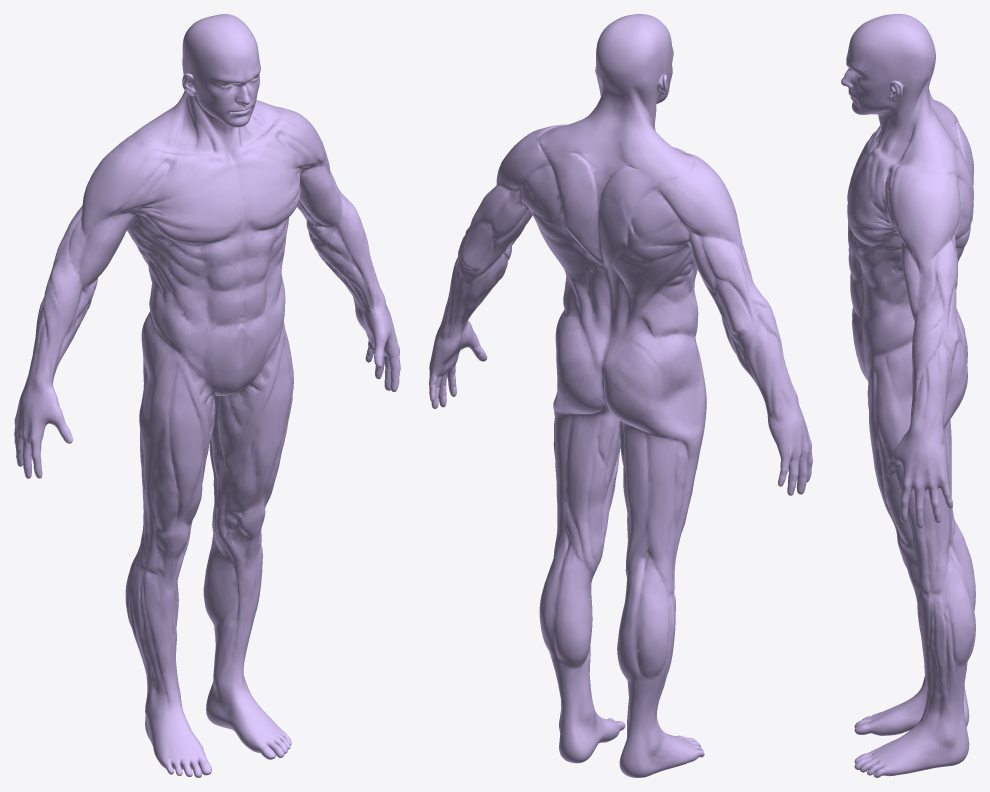
Rendered from anatomy-model.glb.
3 renders of one model, left to right at view 1: azimuth 30°, elevation 25°; view 2: azimuth 150°, elevation 25°; view 3: azimuth 270°, elevation 25°, orthographic.
Parts seen in each view (by area): view 1: Layer0_007_Layer0_0070_0; view 2: Layer0_007_Layer0_0070_0; view 3: Layer0_007_Layer0_0070_0.
Boxes of the visible parts, x1,y1,x2,y2 form: Layer0_007_Layer0_0070_0: (14, 14, 400, 777); Layer0_007_Layer0_0070_0: (429, 14, 812, 777); Layer0_007_Layer0_0070_0: (841, 14, 975, 777).
Bounding box in the file's own units: 1.11 × 2.09 × 0.3497.
